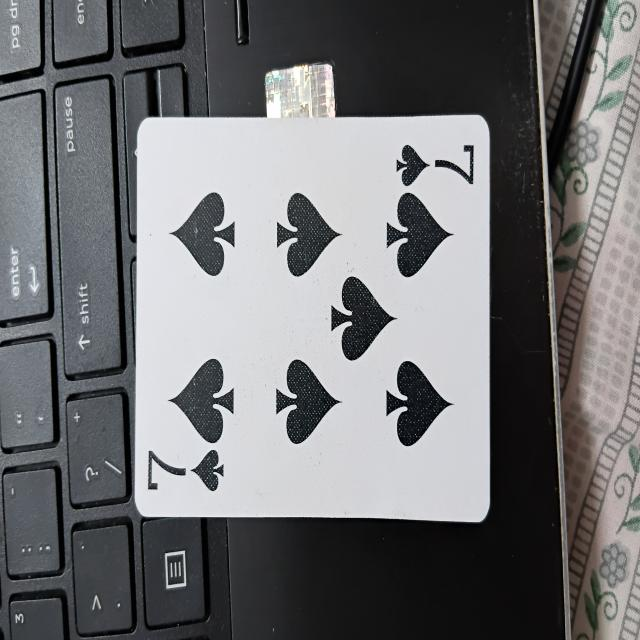7S: (139, 124, 485, 517)
